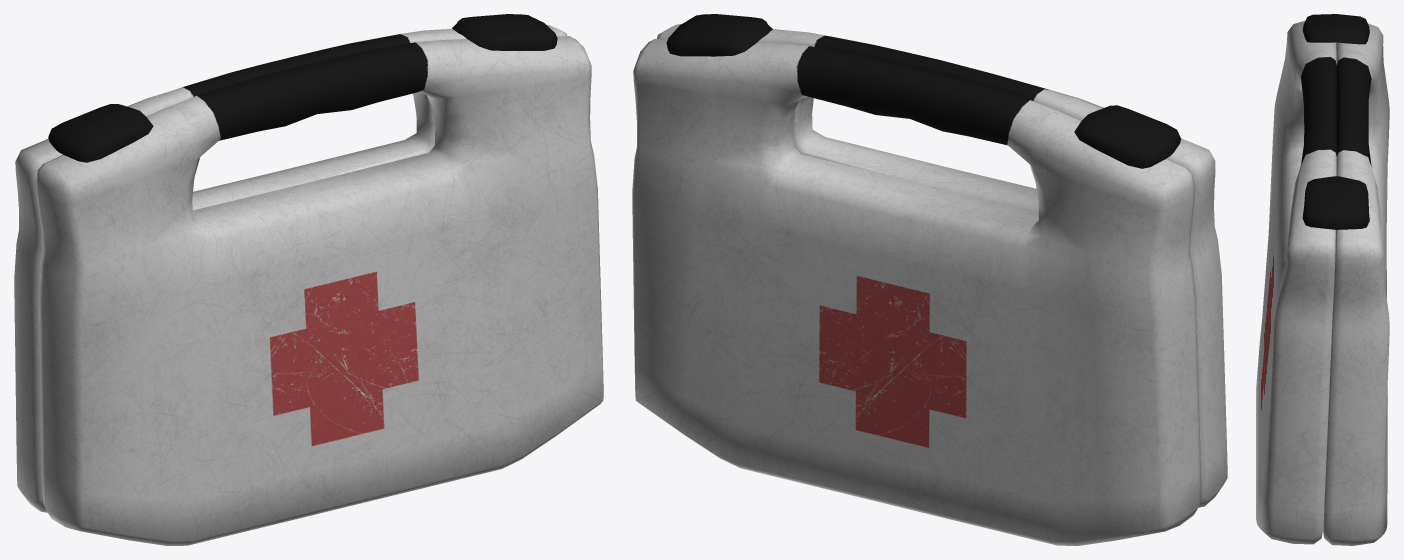
Rendered from medical_kit.glb.
3 views of the same model, side by side, from view 1: azimuth 30°, elevation 25°; view 2: azimuth 150°, elevation 25°; view 3: azimuth 270°, elevation 25° (orthographic). The views are drawn at different scales.
Parts seen in each view (by area): view 1: Object_2; view 2: Object_2; view 3: Object_2.
Boxes of the visible parts, left/top/right/bottom form: Object_2: left=14, top=14, right=603, bottom=545; Object_2: left=632, top=14, right=1227, bottom=545; Object_2: left=1256, top=14, right=1389, bottom=545.
Bounding box in the file's own units: 1.32 × 0.9833 × 0.3241.
Materials: 1 (1 with a texture image).
